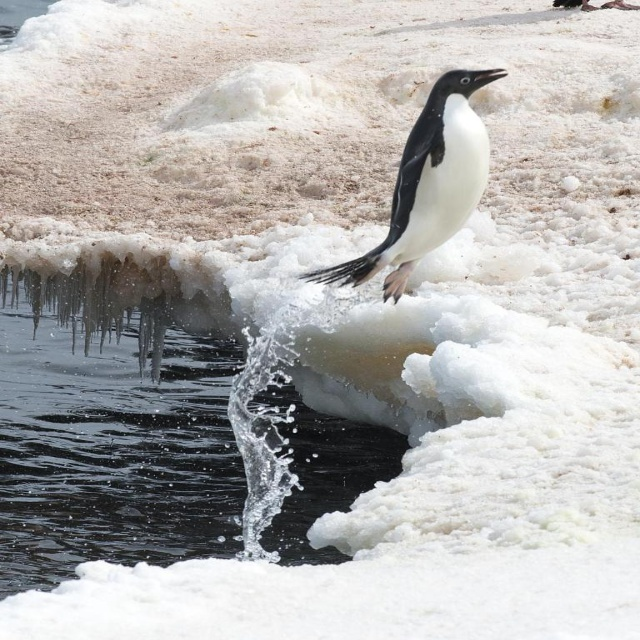Penguin: (292, 64, 506, 302)
